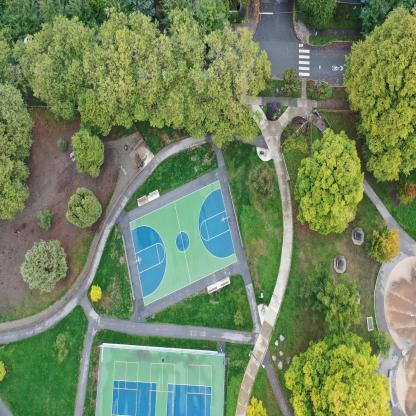Coniferous Tree: (304, 267, 362, 333), (17, 242, 69, 302), (0, 159, 29, 220), (63, 189, 105, 230), (69, 129, 102, 179), (298, 0, 334, 35), (2, 1, 38, 32), (68, 0, 100, 22), (38, 0, 67, 20), (400, 182, 416, 208), (250, 236, 269, 256), (36, 210, 54, 231), (54, 334, 69, 358), (232, 310, 245, 326), (58, 139, 66, 151)
Deciduous Tree: (346, 0, 414, 174), (286, 347, 393, 416), (294, 136, 362, 230), (82, 27, 140, 133), (187, 66, 259, 143), (140, 9, 186, 125), (15, 32, 82, 110), (205, 28, 272, 82), (0, 83, 30, 158), (371, 224, 401, 263), (248, 398, 264, 416), (89, 286, 103, 302)
